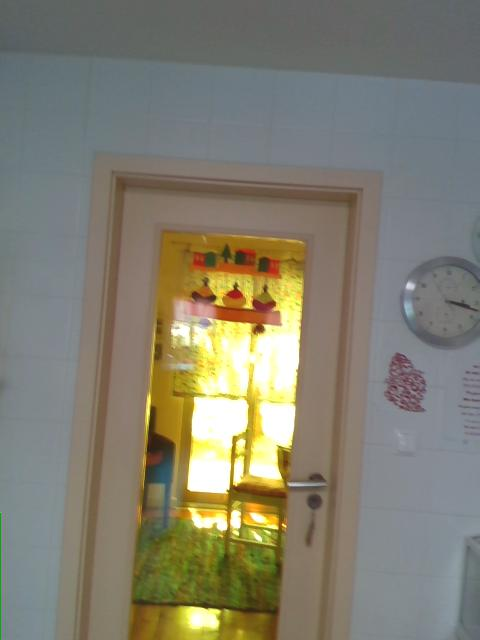closed_door: (59, 149, 376, 638)
